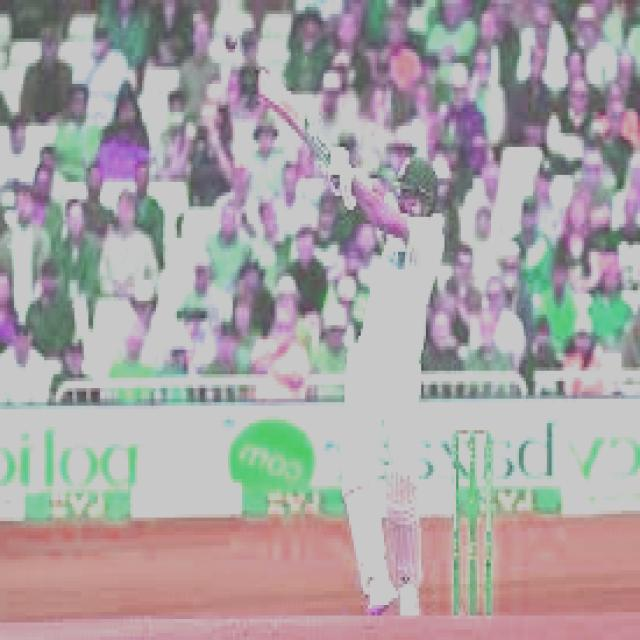toe: (254, 68, 266, 102)
